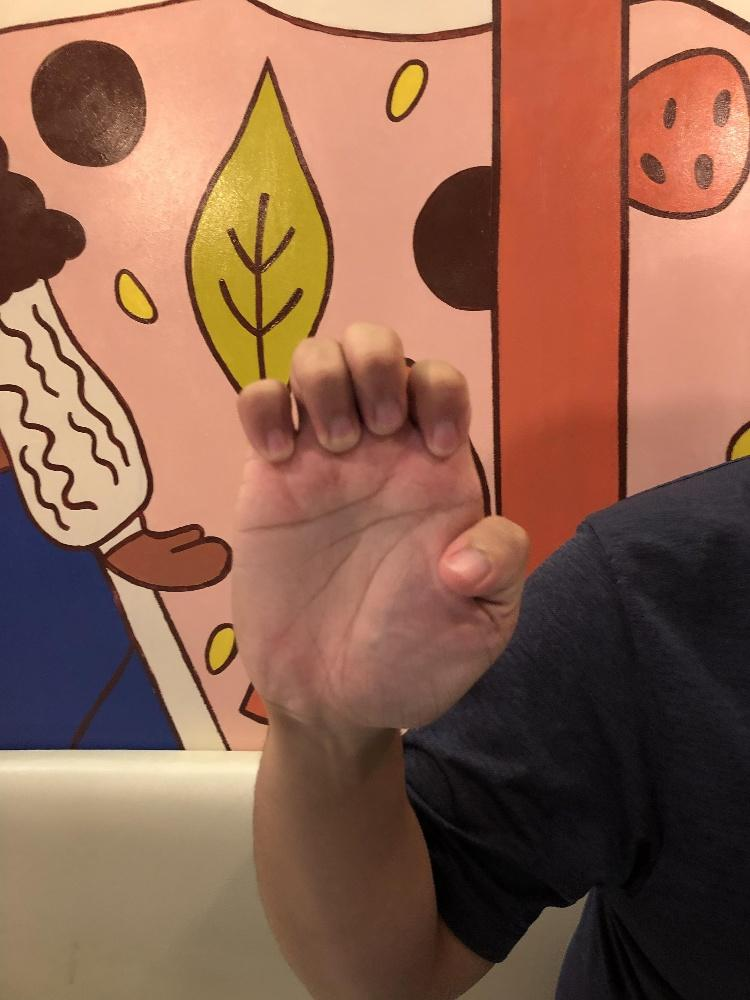e: (229, 320, 531, 730)
